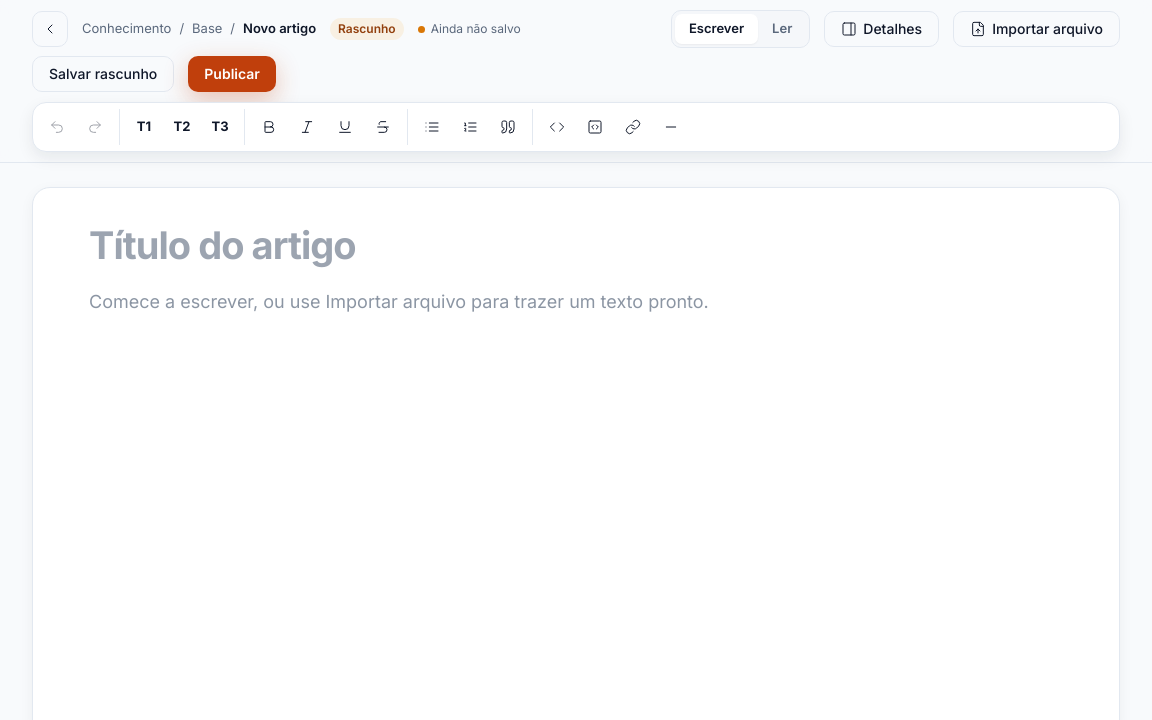
Test: ArticleEditor: artigo novo › alternador Ler mostra o artigo sanitizado como o leitor verá
Check: the element named "Formatação" is shown, box [32, 102, 1120, 152]
Type "Guia" into the field labelled "Título do artigo" at point(576, 246), box [89, 224, 1063, 268]
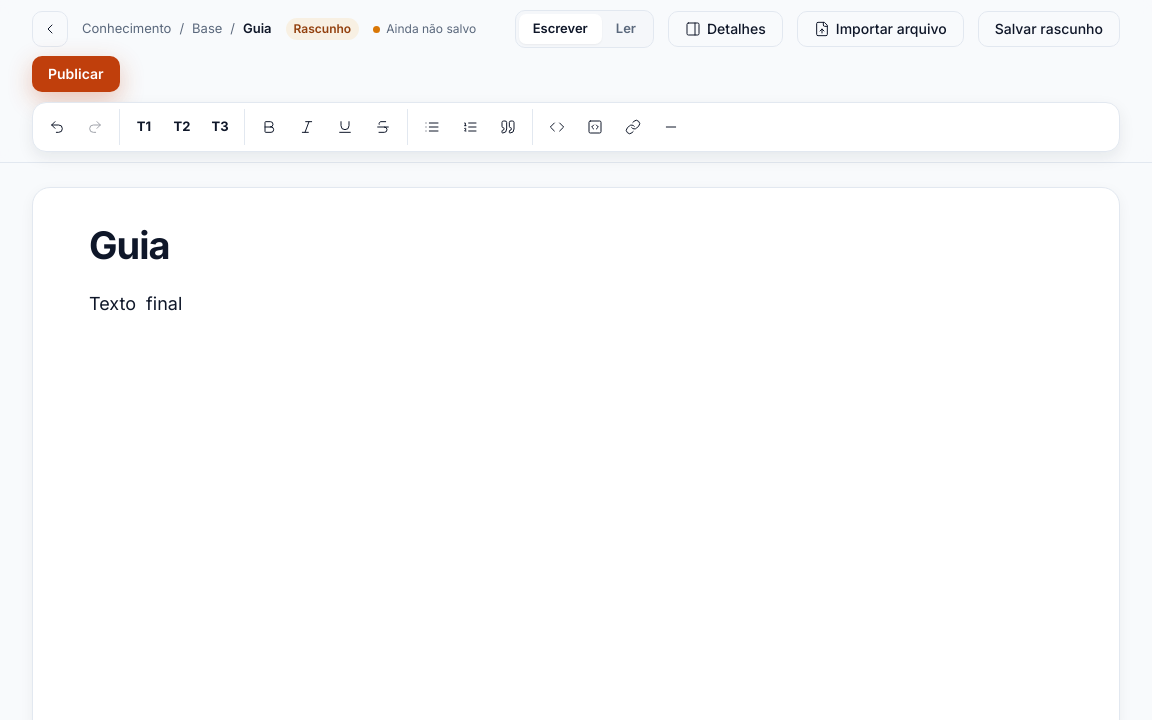
Click the button "Ler" at point(626, 29), box [602, 14, 650, 44]
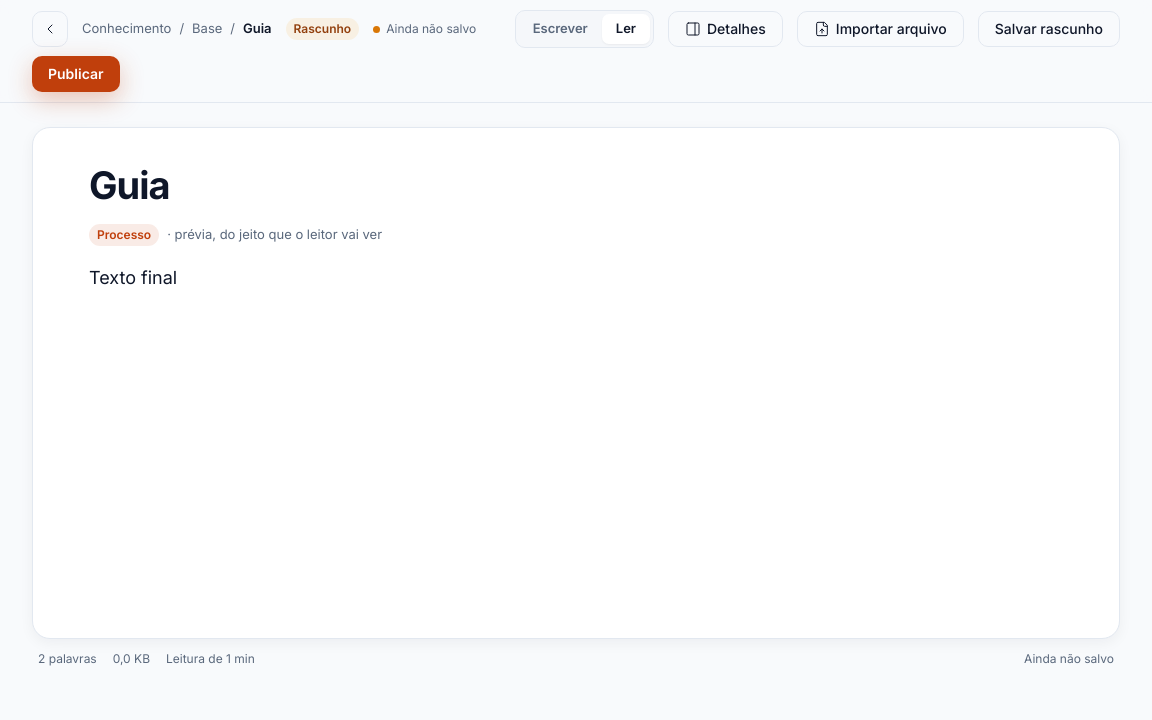
Check: the heading "Guia" is shown, box [89, 162, 170, 208]
Check: the element "Formatação" is gone
